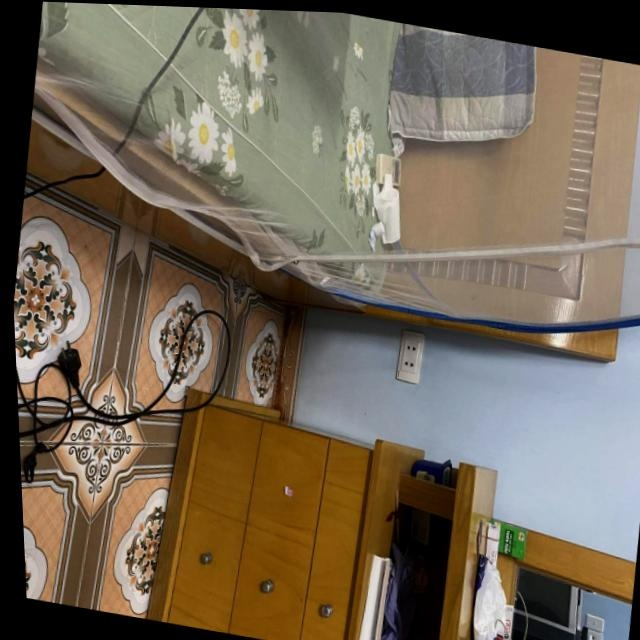outlet: (392, 328, 427, 384)
